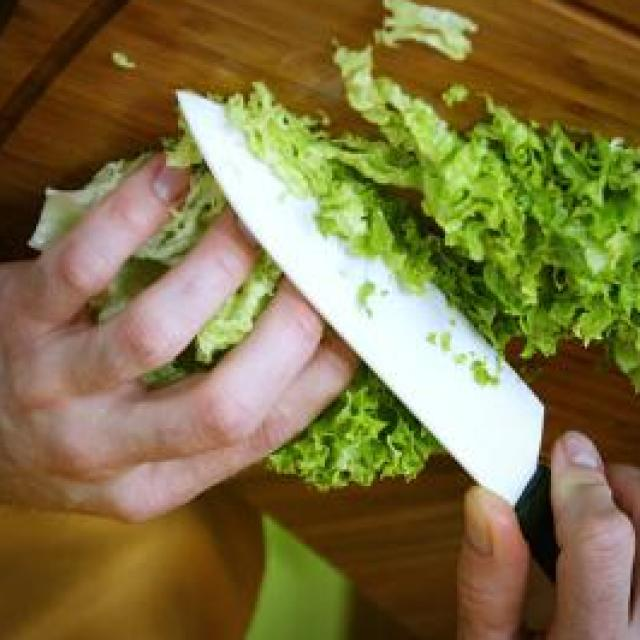knife: (170, 85, 580, 592)
